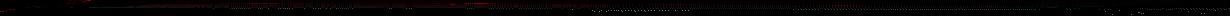Blue cone: (25, 7, 31, 8)
Yellow cone: (447, 3, 458, 7), (954, 6, 970, 8)
